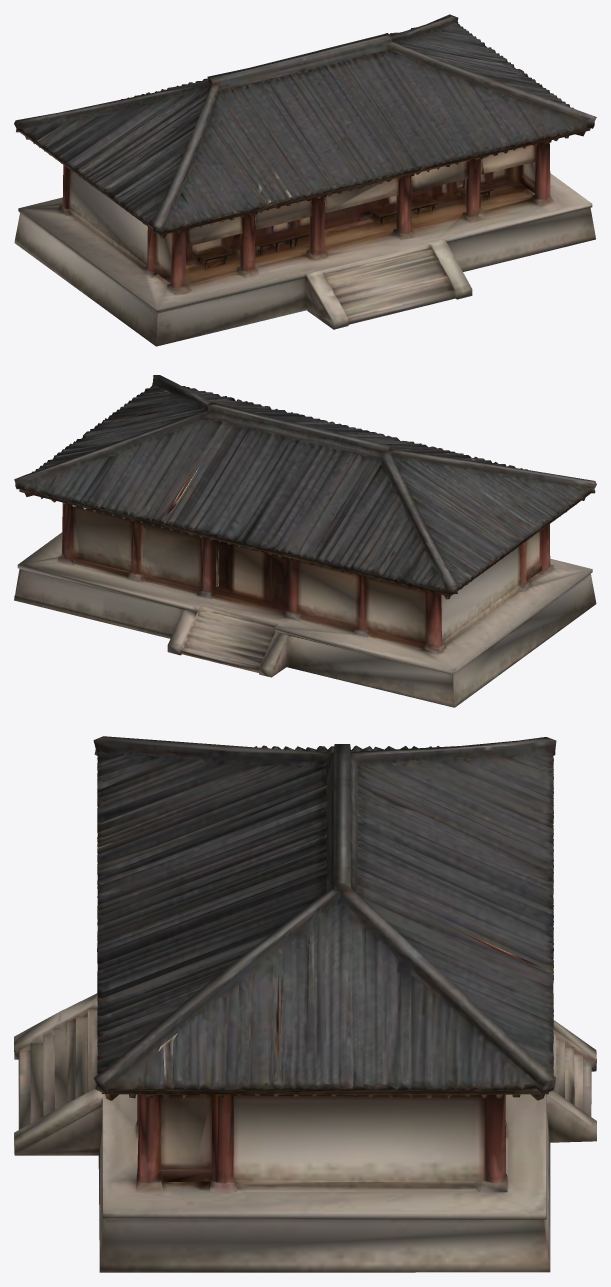
The model's file is hall_lod1.glb.
3 renders of one model, top to bottom at view 1: azimuth 30°, elevation 25°; view 2: azimuth 150°, elevation 25°; view 3: azimuth 270°, elevation 25°, orthographic. The views are drawn at different scales.
Visible parts, largest first — view 1: node_0; view 2: node_0; view 3: node_0.
Boxes of the visible parts, left/top/right/bottom form: node_0: left=14, top=14, right=596, bottom=346; node_0: left=14, top=375, right=596, bottom=707; node_0: left=14, top=736, right=596, bottom=1272.
Bounding box in the file's own units: 0.9803 × 0.3822 × 0.7005.
1 material, 1 textured.
